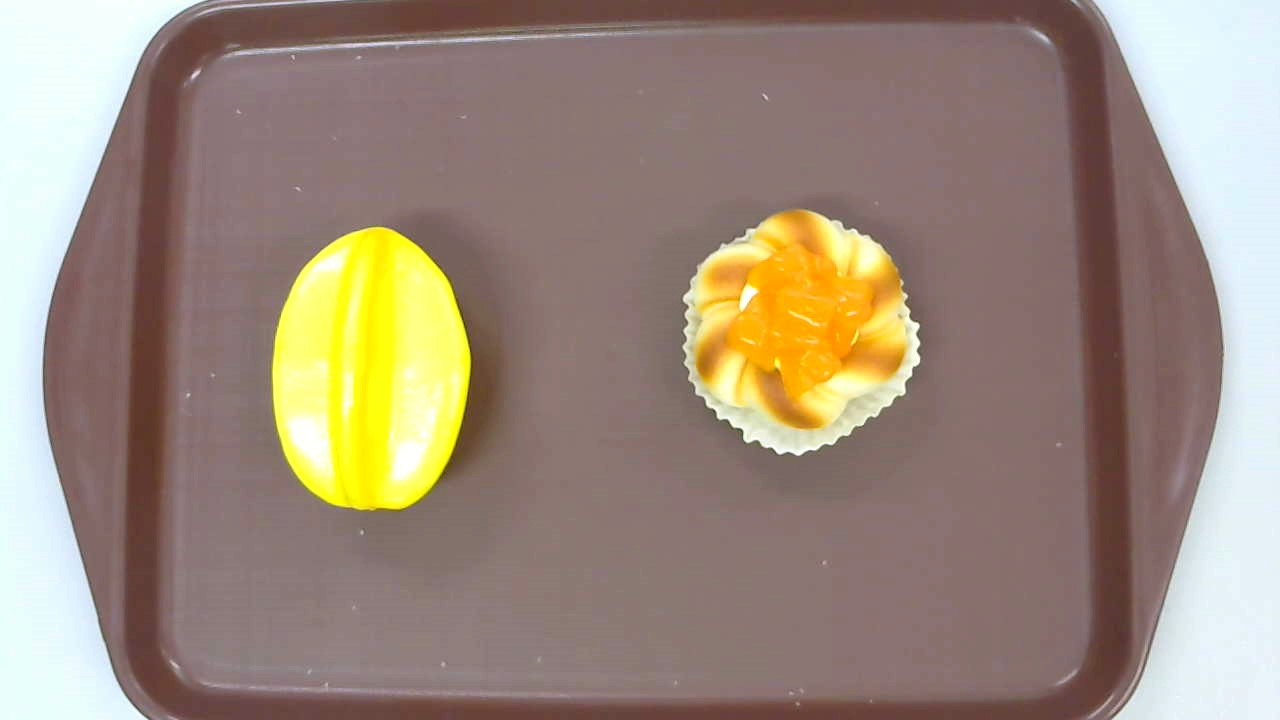mango tart: (681, 209, 921, 457)
star fruit: (272, 225, 470, 512)
